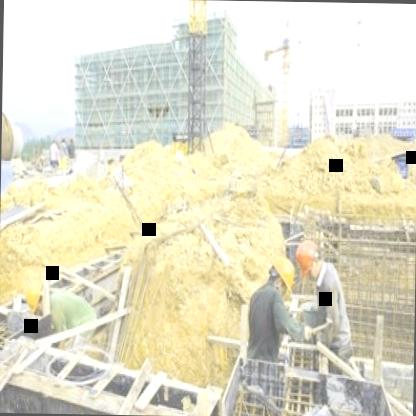helmet: (270, 257, 297, 298), (294, 240, 321, 280)
